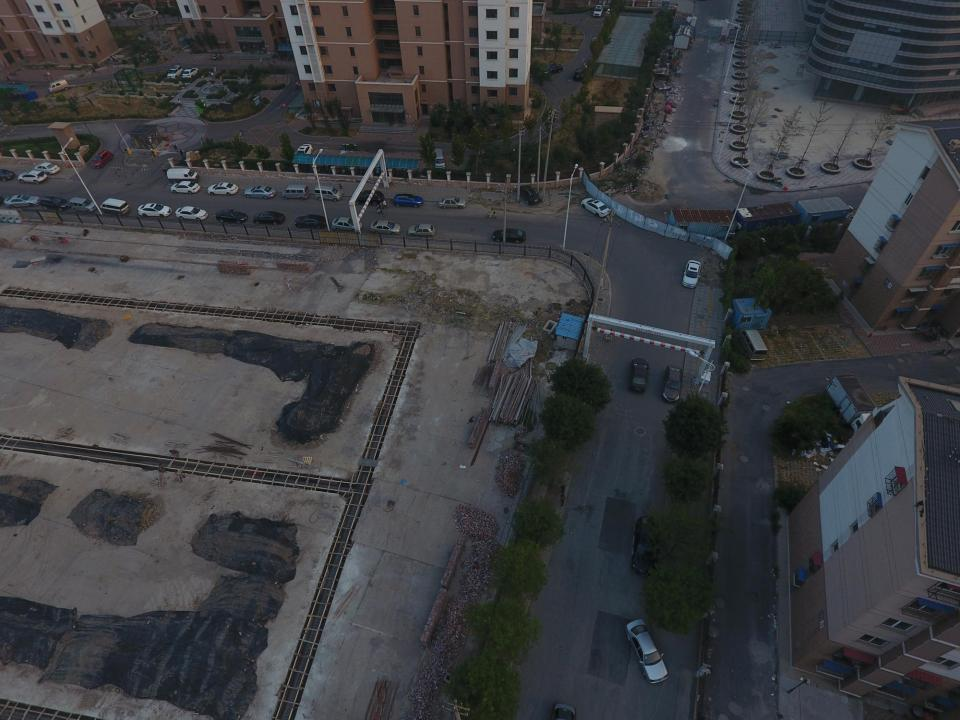car: (625, 619, 668, 684), (630, 516, 660, 576), (662, 365, 683, 402), (629, 358, 650, 393), (580, 197, 610, 217), (682, 259, 701, 288), (294, 214, 330, 229), (331, 216, 362, 233), (252, 211, 286, 226), (492, 228, 526, 243), (3, 195, 40, 208), (354, 190, 384, 206), (138, 203, 172, 217), (207, 181, 238, 196), (370, 220, 401, 235), (517, 185, 541, 204), (40, 196, 70, 211), (393, 193, 423, 208), (175, 206, 207, 220), (244, 185, 276, 199), (216, 209, 248, 223), (17, 170, 48, 184), (170, 180, 200, 194), (91, 150, 114, 167), (407, 223, 435, 236), (439, 196, 466, 209), (294, 144, 314, 160), (34, 162, 60, 174), (541, 63, 563, 76), (168, 64, 184, 79), (182, 67, 200, 79), (573, 67, 585, 79), (592, 4, 603, 17), (606, 7, 614, 20)
truck: (828, 374, 875, 433)
van: (100, 197, 130, 216), (166, 168, 199, 183), (281, 185, 311, 201), (314, 185, 342, 202), (70, 196, 96, 213), (46, 78, 70, 94), (433, 148, 445, 168)
